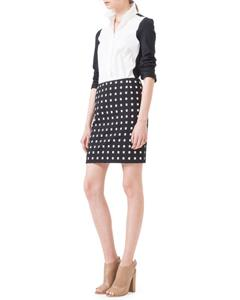C_long sleeve: (86, 2, 157, 88)
C_sandals: (90, 249, 145, 300)
C_skirt: (85, 72, 148, 168)
